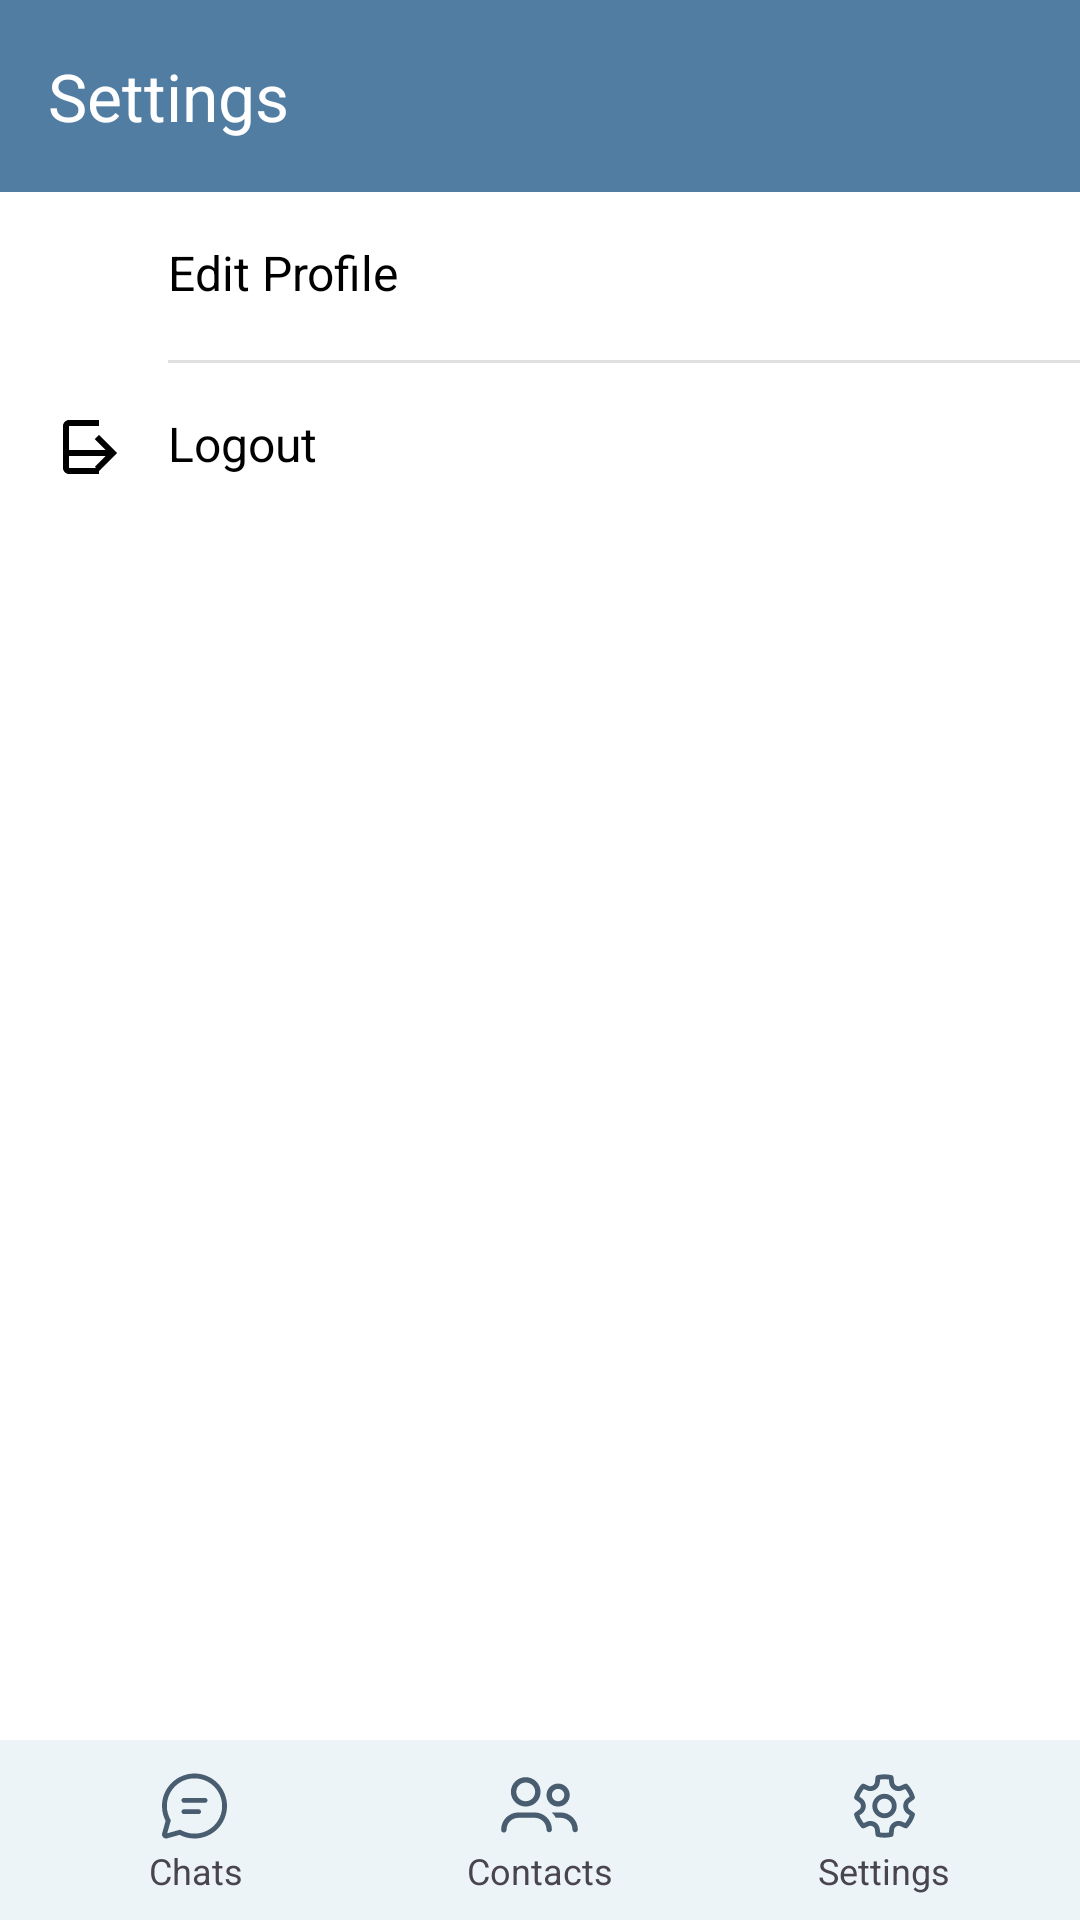

Screen size 1080x1920. Icon name, then its box in pixels as [x1=x1, y1=y1, x2=x2, y2=y2]:
users: [x1=501, y1=1777, x2=578, y2=1833]
